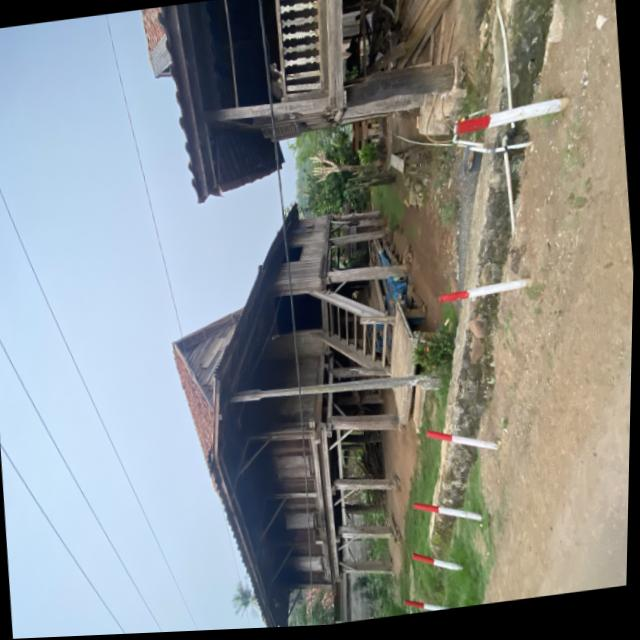Atap: (141, 2, 284, 202)
Kolom: (231, 373, 420, 401), (341, 92, 424, 122)
Pintu: (273, 290, 322, 333)
Tangga: (307, 289, 387, 368)
jendela: (261, 121, 302, 141)
